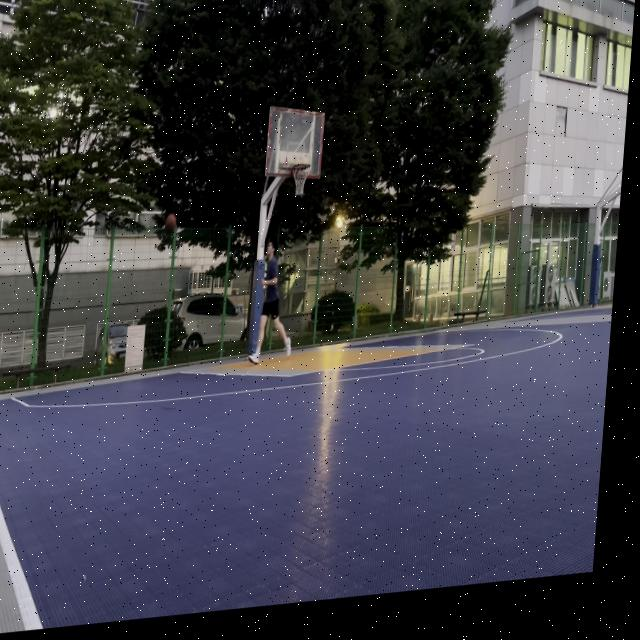basketball: (164, 213, 177, 234)
hoop: (290, 162, 311, 197)
